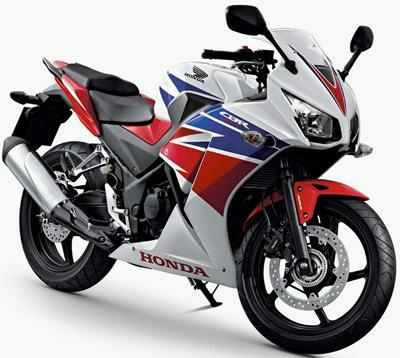motorbike: (2, 5, 397, 354)
